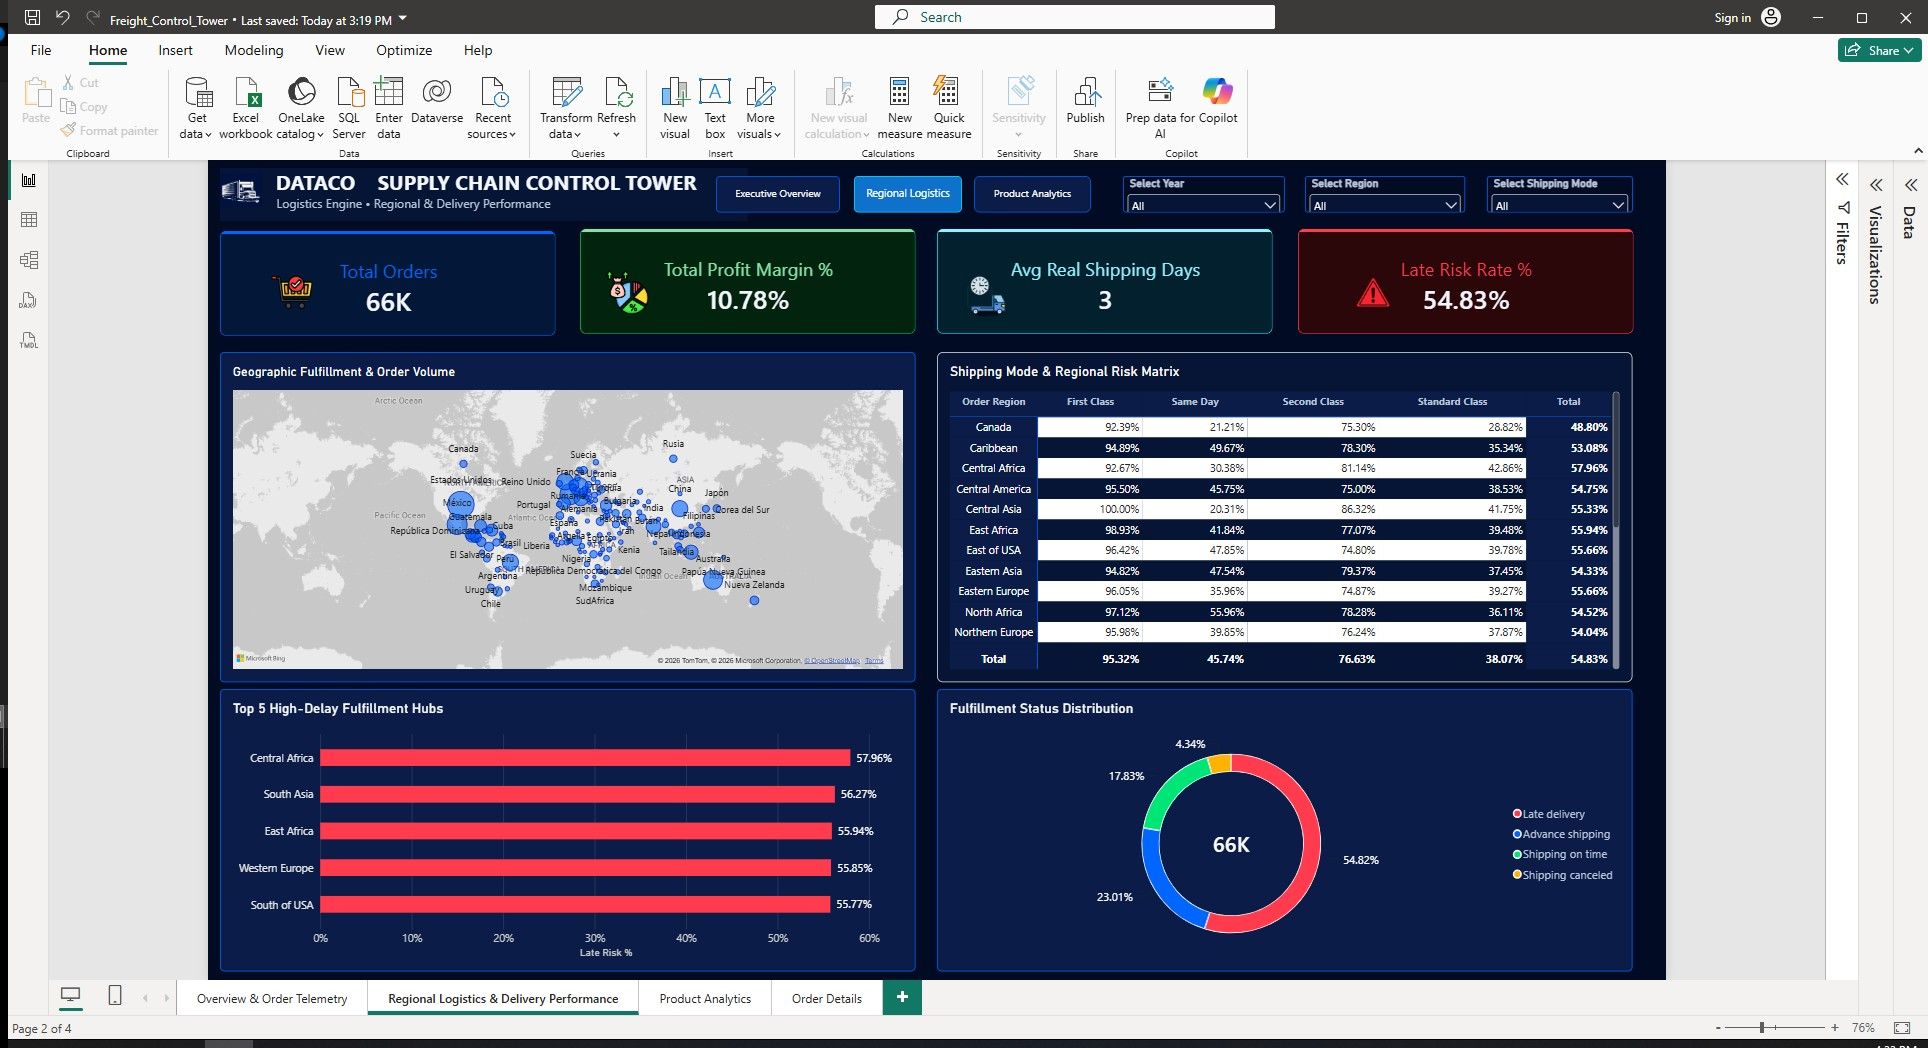

The dashboard page shown, as its layout file describes it:
{"tool":"powerbi","page":{"name":"Regional Logistics & Delivery Performance","canvas":[1920,1080],"ordinal":1},"visuals":[{"type":"textbox","title":"DATACO SUPPLY CHAIN CONTROL TOWER","box":[15.8,10.5,695.4,69.8],"z":0},{"type":"cardVisual","fields":{"Data":["_Key Measures.Total Orders"]},"box":[15.8,93.5,442.1,138.6],"z":1000},{"type":"cardVisual","fields":{"Data":["_Key Measures.Total Profit Margin %"]},"box":[490.2,90.5,442.1,138.6],"z":2000},{"type":"cardVisual","fields":{"Data":["_Key Measures.Avg Real Shipping Days"]},"box":[960,90.5,442.1,138.6],"z":3000},{"type":"cardVisual","fields":{"Data":["_Key Measures.Late Risk Rate %"]},"box":[1435.6,90.5,442.1,138.6],"z":4000},{"type":"slicer","fields":{"Values":["DateTable.Year"]},"box":[1205.1,21,212.8,48],"z":5000},{"type":"slicer","fields":{"Values":["DataCoSupplyChainDataset.Order Region"]},"box":[1444.9,21,211.3,48],"z":6000},{"type":"slicer","fields":{"Values":["DataCoSupplyChainDataset.Shipping Mode"]},"box":[1684.7,21,191.9,48],"z":7000},{"type":"map","title":"Geographic Fulfillment & Order Volume","fields":{"Size":["_Key Measures.Total Orders"],"Category":["DataCoSupplyChainDataset.Order Country"]},"box":[16,252.4,916.2,434.8],"z":8000},{"type":"pivotTable","title":"Shipping Mode & Regional Risk Matrix","fields":{"Rows":["DataCoSupplyChainDataset.Order Region"],"Columns":["DataCoSupplyChainDataset.Shipping Mode"],"Values":["_Key Measures.Late Delivery Rate %"]},"box":[960,252.4,916.2,434.8],"z":9000},{"type":"clusteredBarChart","title":"Top 5 High-Delay Fulfillment Hubs","fields":{"Category":["DataCoSupplyChainDataset.Order Region"],"Y":["_Key Measures.Late Delivery Rate %"]},"box":[16,697.4,916.2,372],"z":10000},{"type":"donutChart","title":"Fulfillment Status Distribution","fields":{"Category":["DataCoSupplyChainDataset.Delivery Status"],"Y":["_Key Measures.Total Orders"]},"box":[960,697.4,916.2,372],"z":11000},{"type":"actionButton","title":"Executive Overview","box":[668.5,21,163.4,48],"z":12000},{"type":"actionButton","title":"Regional Logistics","box":[851.3,21,142.4,48],"z":13000},{"type":"actionButton","title":"Product Analytics","box":[1008.7,21,154.4,48],"z":14000},{"type":"image","box":[71.1,144.9,79,59.3],"z":14001},{"type":"image","box":[513.7,144.9,76.4,59.3],"z":14002},{"type":"image","box":[960.1,144.9,130.4,65.9],"z":14003},{"type":"image","box":[1384.2,144.9,300.3,59.3],"z":14004},{"type":"image","box":[15.8,10.5,55.3,59.3],"z":14005}]}

Visuals, with their boxes on the page's 1920x1080 design canvas (x1, y1, x2, y2). These are canvas units, not pixel positions in the 1928x1048 screenshot, which may show the page scaled, cropped or inside an application window:
"DATACO SUPPLY CHAIN CONTROL TOWER" textbox: [16,10,711,80]
cardVisual - _Key Measures.Total Orders: [16,94,458,232]
cardVisual - _Key Measures.Total Profit Margin %: [490,90,932,229]
cardVisual - _Key Measures.Avg Real Shipping Days: [960,90,1402,229]
cardVisual - _Key Measures.Late Risk Rate %: [1436,90,1878,229]
slicer - DateTable.Year: [1205,21,1418,69]
slicer - DataCoSupplyChainDataset.Order Region: [1445,21,1656,69]
slicer - DataCoSupplyChainDataset.Shipping Mode: [1685,21,1877,69]
"Geographic Fulfillment & Order Volume" map: [16,252,932,687]
"Shipping Mode & Regional Risk Matrix" pivotTable: [960,252,1876,687]
"Top 5 High-Delay Fulfillment Hubs" clusteredBarChart: [16,697,932,1069]
"Fulfillment Status Distribution" donutChart: [960,697,1876,1069]
"Executive Overview" actionButton: [668,21,832,69]
"Regional Logistics" actionButton: [851,21,994,69]
"Product Analytics" actionButton: [1009,21,1163,69]
image: [71,145,150,204]
image: [514,145,590,204]
image: [960,145,1090,211]
image: [1384,145,1684,204]
image: [16,10,71,70]
